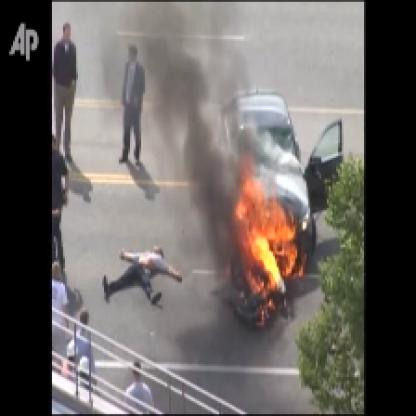Fire: (219, 141, 305, 316)
Smoke: (143, 2, 241, 269)
